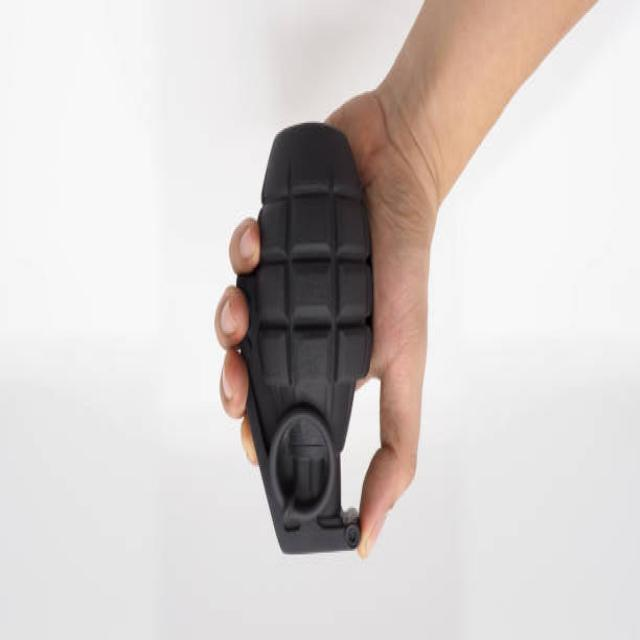grenade: (234, 118, 380, 557)
